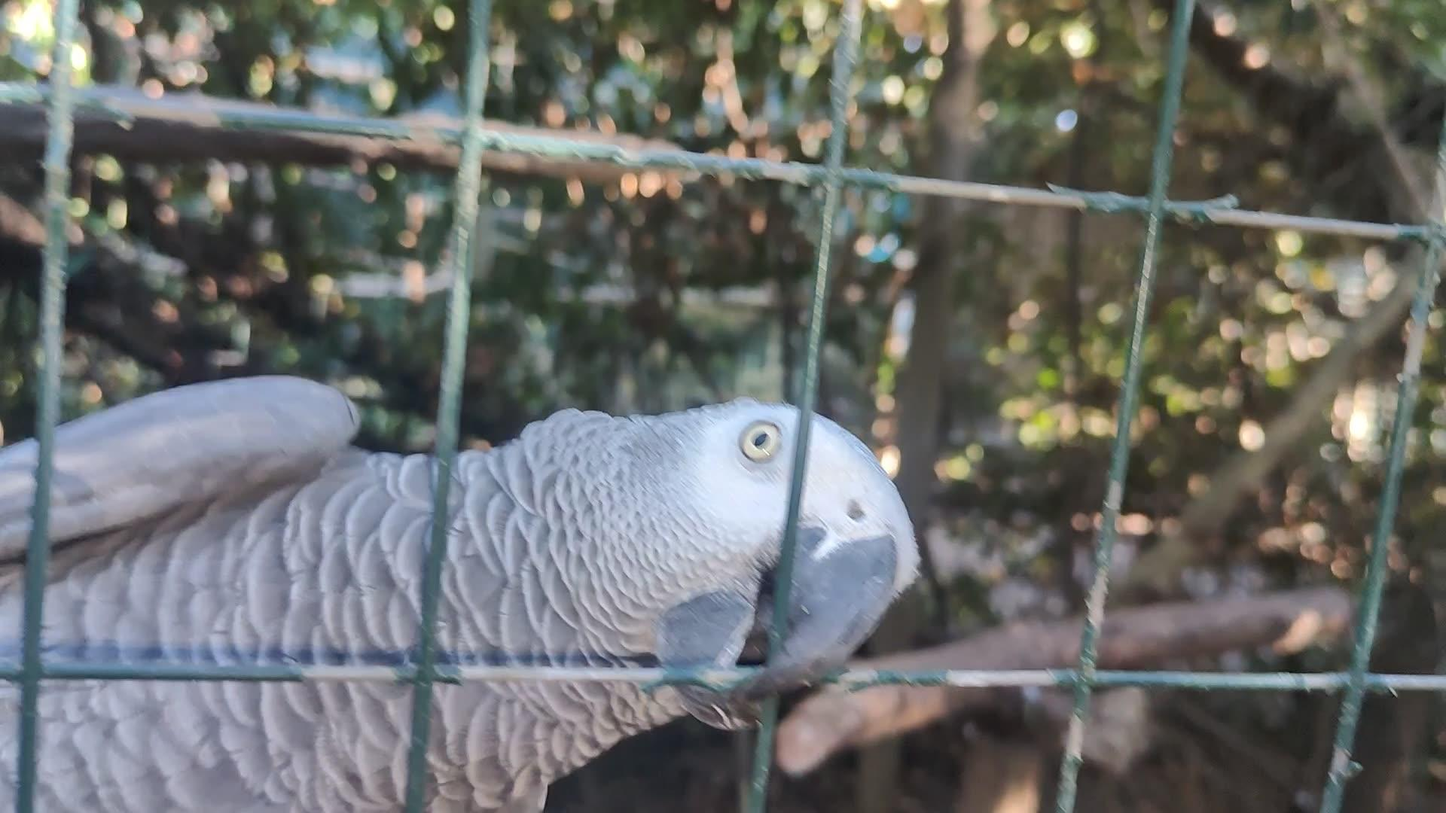apple: (0, 374, 922, 813)
